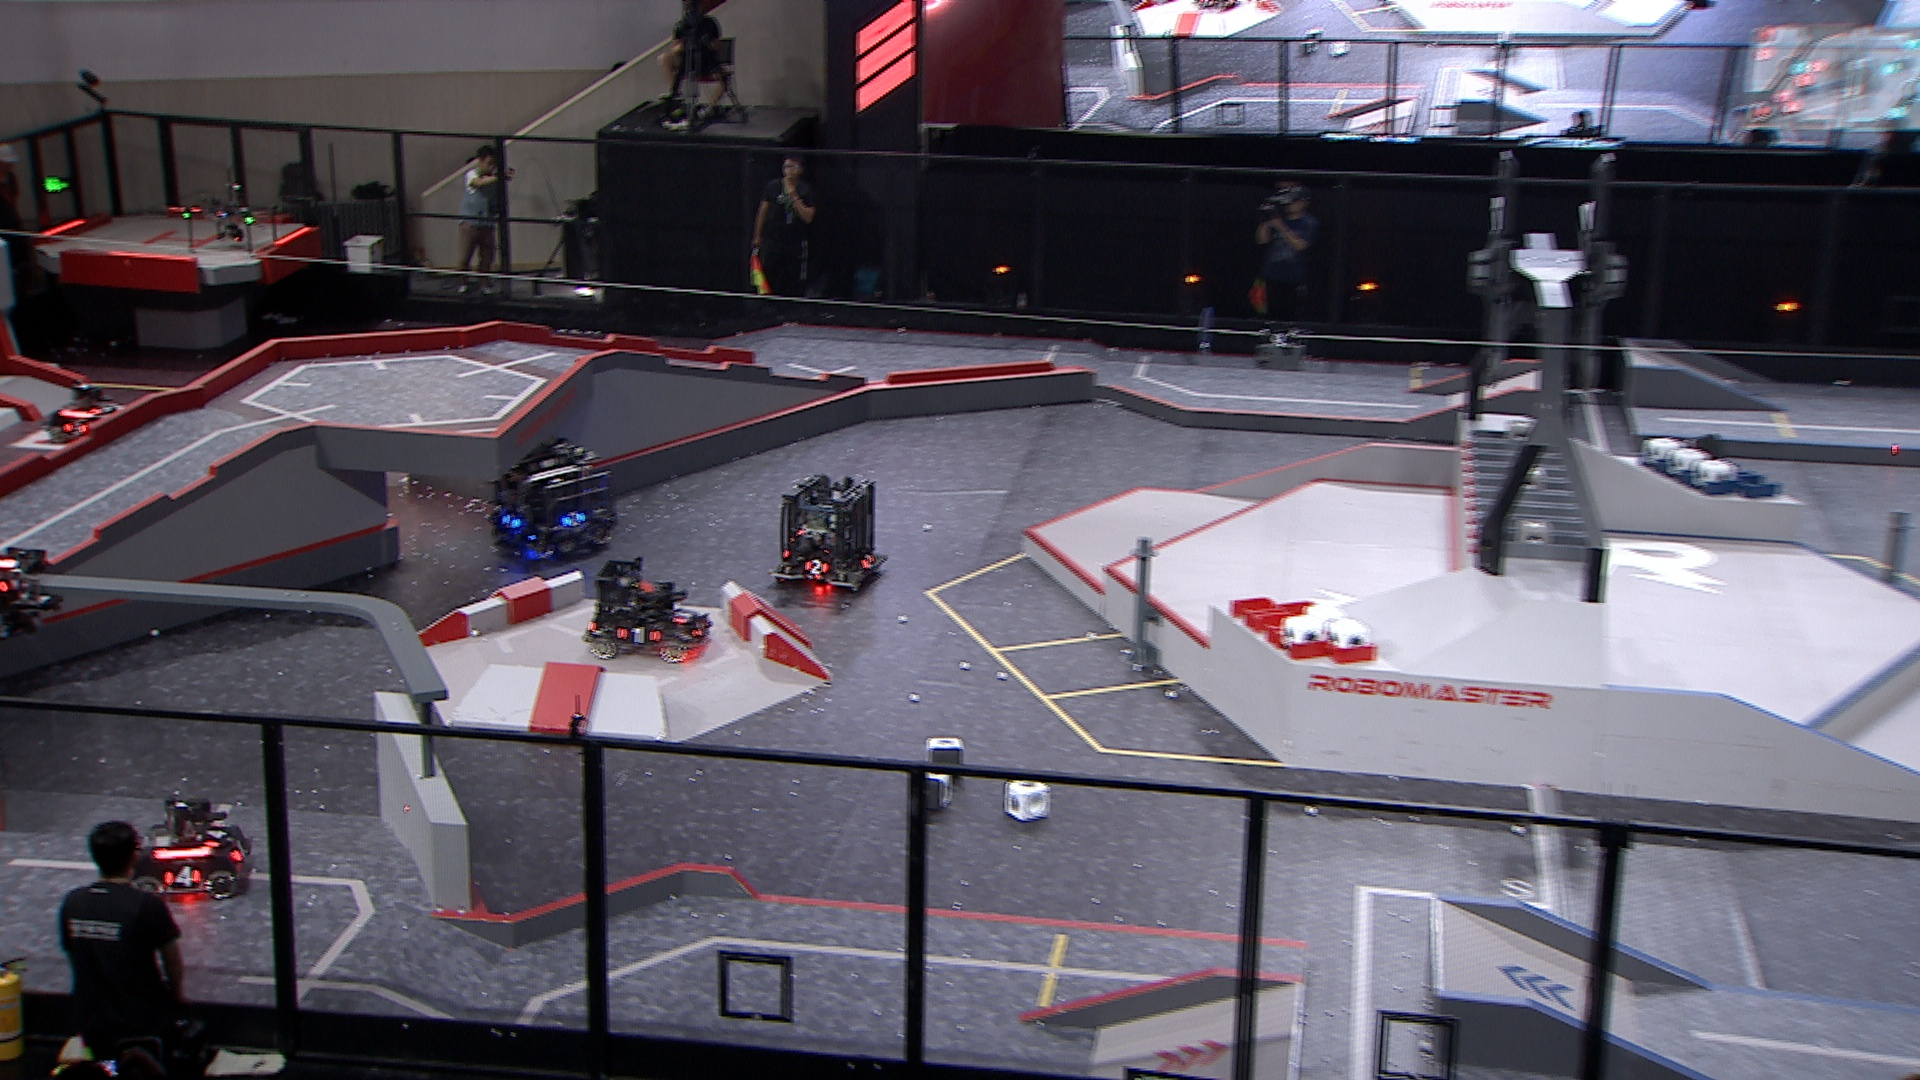armor: (617, 624, 657, 646), (164, 866, 196, 887), (204, 825, 225, 851), (560, 509, 588, 526), (858, 553, 880, 575), (61, 419, 86, 436), (87, 404, 113, 419), (803, 559, 829, 575), (498, 510, 520, 527), (692, 618, 708, 637), (235, 839, 248, 860), (673, 609, 694, 622)
car: (485, 439, 617, 567), (767, 473, 887, 597), (125, 793, 255, 905), (580, 560, 712, 661), (44, 382, 119, 451)
